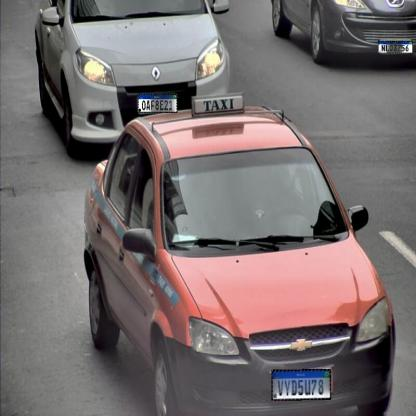PlacaM: (272, 369, 332, 401), (138, 94, 177, 113), (378, 41, 413, 53)
